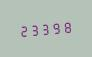eight: (62, 18, 72, 34)
nine: (51, 19, 61, 35)
three: (29, 21, 39, 37), (40, 20, 50, 36)
two: (18, 22, 28, 38)
